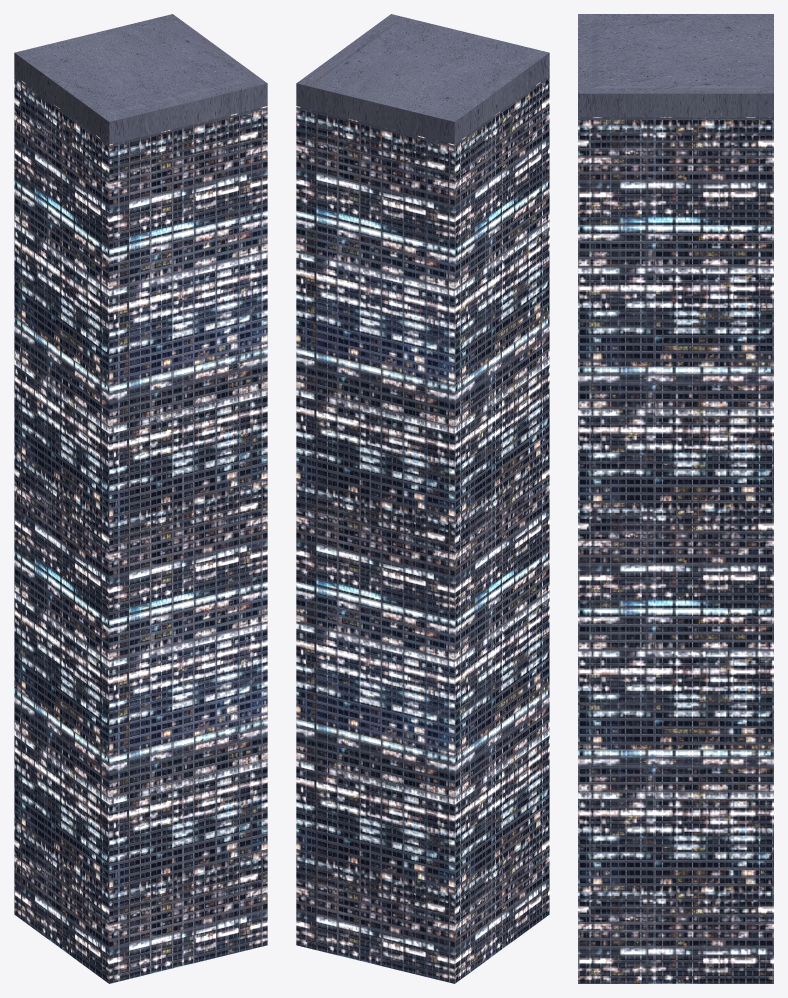
File: new-skyscraper2.glb
3 views of the same model, side by side, from view 1: azimuth 30°, elevation 25°; view 2: azimuth 150°, elevation 25°; view 3: azimuth 270°, elevation 25° (orthographic). The views are drawn at different scales.
Parts seen in each view (by area): view 1: Cube.033; view 2: Cube.033; view 3: Cube.033.
Part boxes in pixels (left/top/right/bottom): Cube.033: left=14, top=14, right=267, bottom=983; Cube.033: left=296, top=14, right=549, bottom=983; Cube.033: left=578, top=14, right=773, bottom=983.
Bounding box in the file's own units: 55.25 × 288 × 57.26.
Materials: 1 (1 with a texture image).
